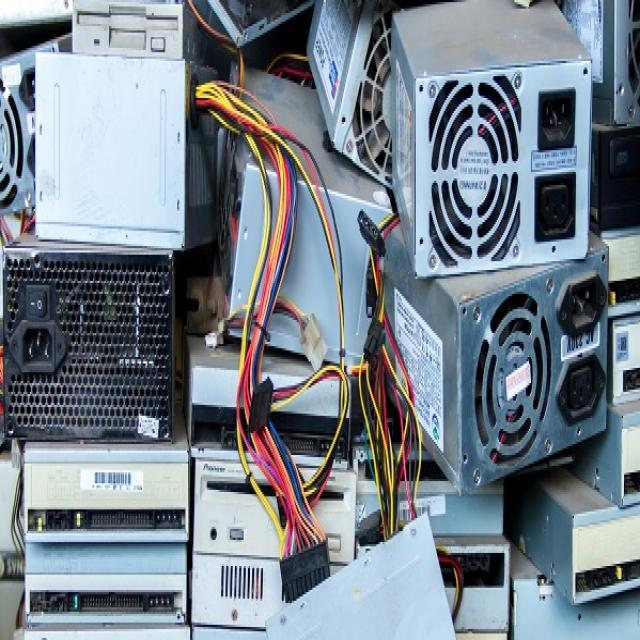heap: (30, 37, 607, 640)
